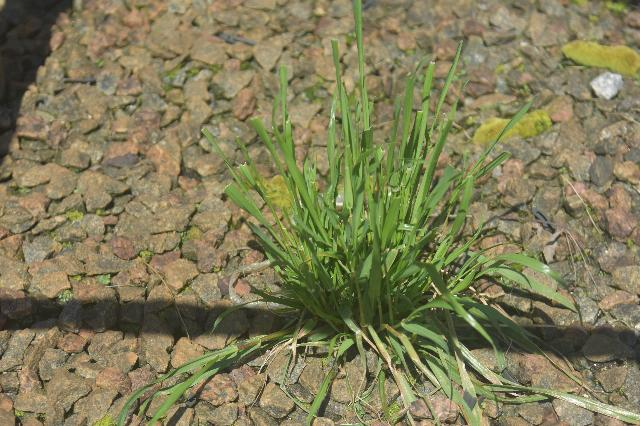MalezaMontesDelPlata: (198, 46, 474, 410)
MusgoMontesDelPlata: (465, 102, 552, 150), (561, 34, 638, 77)
